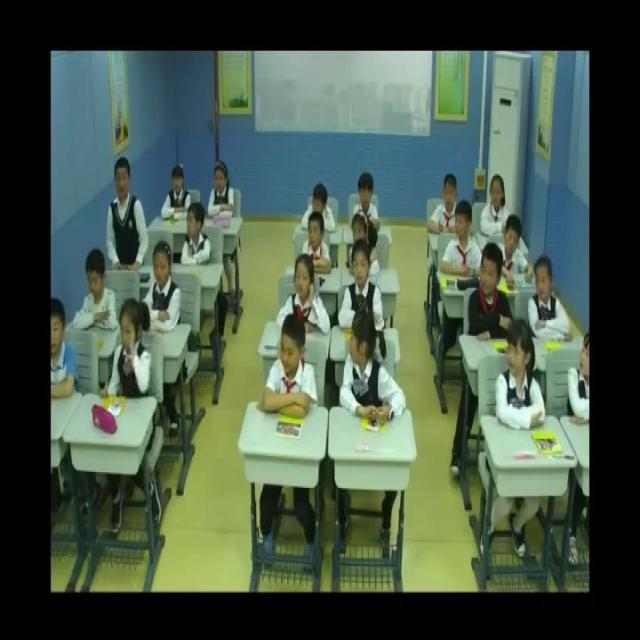distracted: (338, 312, 408, 423), (441, 199, 484, 275), (568, 330, 590, 419), (182, 201, 212, 264)
focused: (261, 316, 316, 419), (495, 316, 544, 429), (106, 156, 149, 275), (105, 296, 153, 398), (333, 238, 385, 327), (277, 256, 331, 336), (468, 246, 513, 339), (527, 256, 568, 338), (48, 300, 80, 405), (76, 252, 118, 329), (146, 240, 182, 329), (480, 173, 516, 245), (427, 174, 468, 235), (499, 215, 534, 284), (349, 212, 381, 278), (161, 161, 192, 224), (302, 212, 331, 278), (210, 160, 238, 225), (304, 183, 338, 233), (354, 174, 380, 234)
